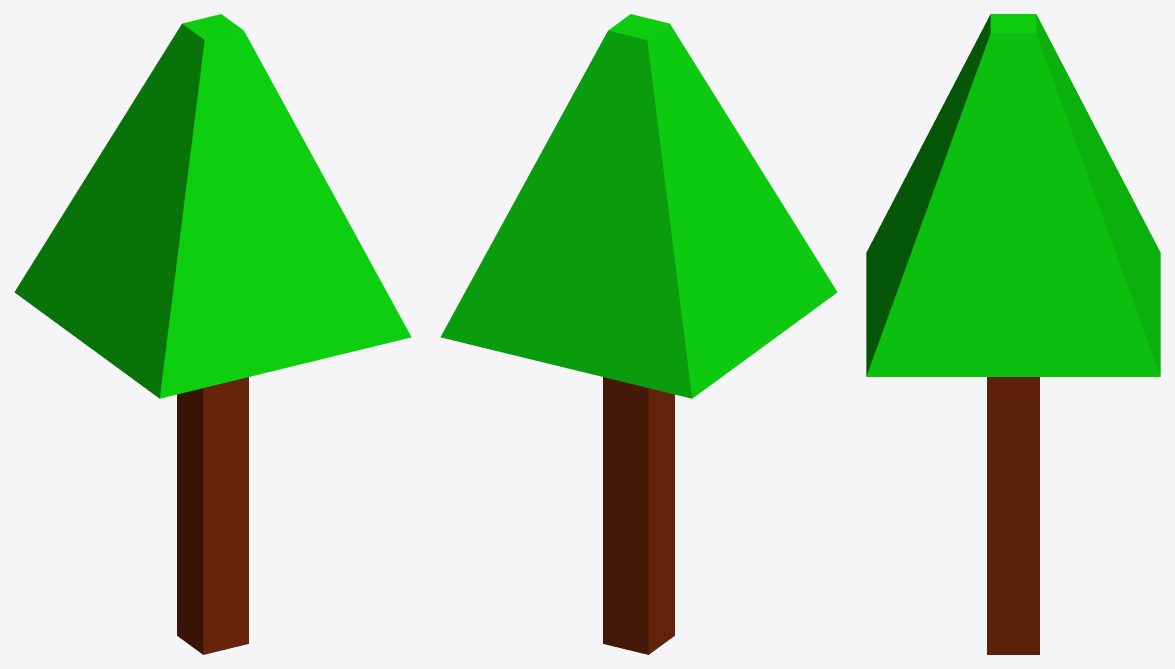
File: Tree.fbx
3 views of the same model, side by side, from view 1: azimuth 30°, elevation 25°; view 2: azimuth 150°, elevation 25°; view 3: azimuth 270°, elevation 25° (orthographic).
Parts seen in each view (by area): view 1: Cube; view 2: Cube; view 3: Cube.
Part boxes in pixels (x1=…): Cube: x1=14, y1=14, x2=411, y2=654; Cube: x1=440, y1=14, x2=837, y2=654; Cube: x1=866, y1=14, x2=1160, y2=654.
Size of the model in its own units: 4.04 by 9.38 by 4.04.
